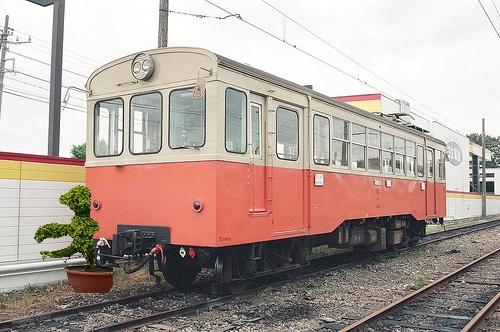tampered: (35, 186, 113, 293)
